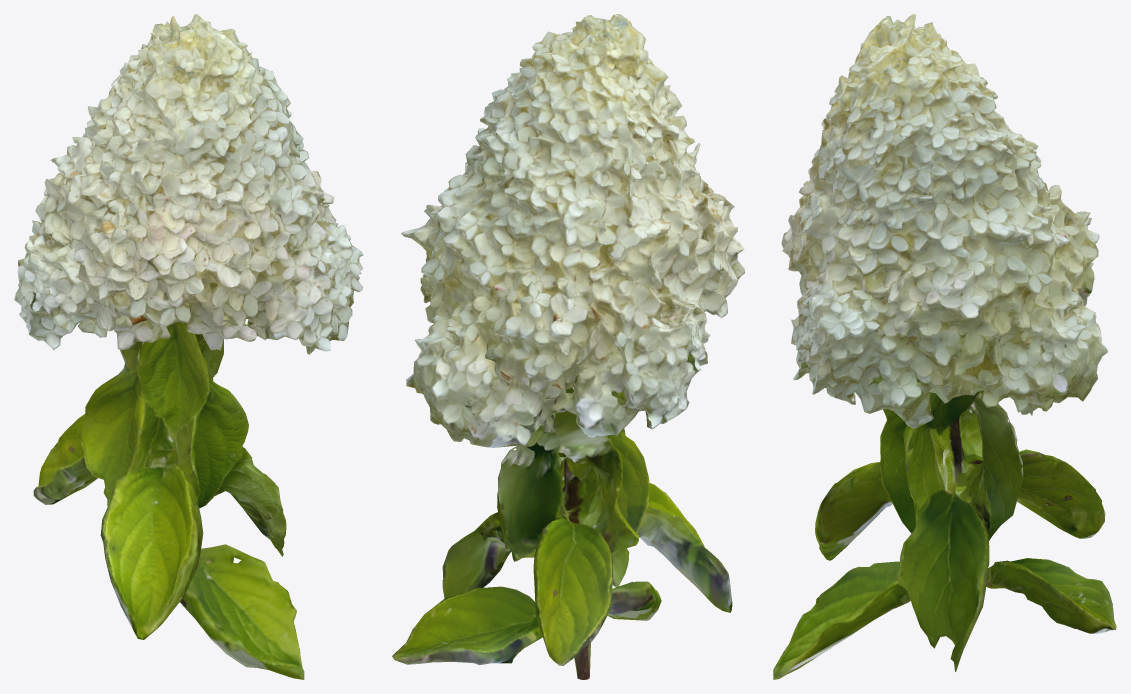
The model's file is hydrangea.glb.
3 views of the same model, side by side, from view 1: azimuth 30°, elevation 25°; view 2: azimuth 150°, elevation 25°; view 3: azimuth 270°, elevation 25° (orthographic). The views are drawn at different scales.
Parts seen in each view (by area): view 1: Object_2; view 2: Object_2; view 3: Object_2.
Boxes of the visible parts, bbox=[...] form: Object_2: bbox=[14, 14, 363, 679]; Object_2: bbox=[392, 14, 744, 679]; Object_2: bbox=[773, 14, 1116, 679].
Size of the model in its own units: 0.1828 by 0.3895 by 0.1906.
Materials: 1 (1 with a texture image).
